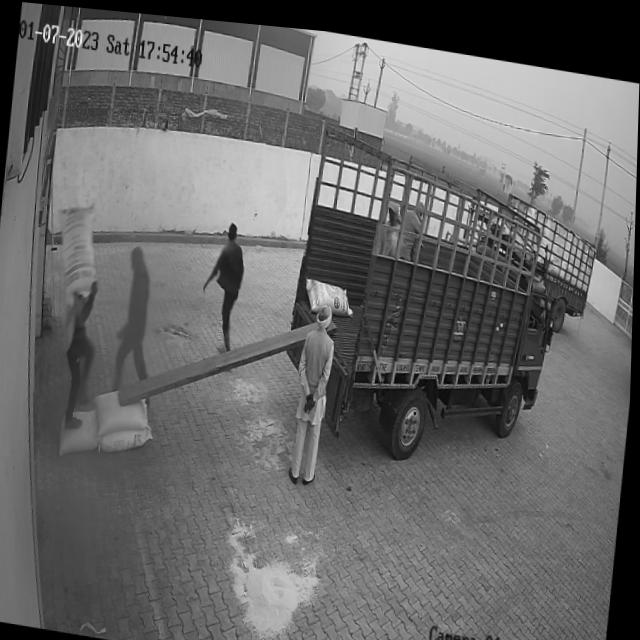sack: (53, 198, 102, 306), (92, 385, 151, 438), (303, 268, 356, 313), (61, 403, 101, 457), (102, 415, 154, 455)
